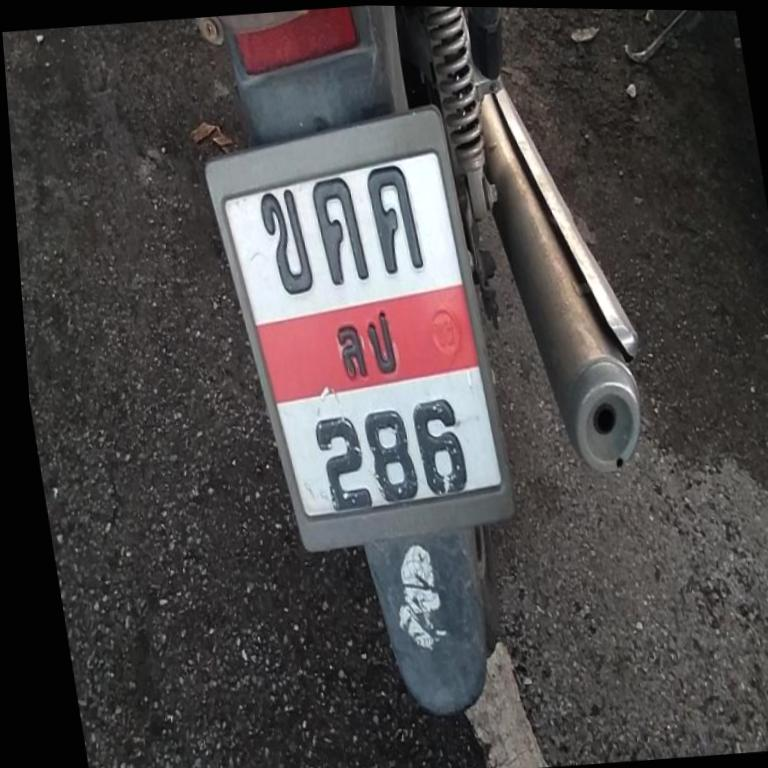license plate: (186, 94, 526, 559)
